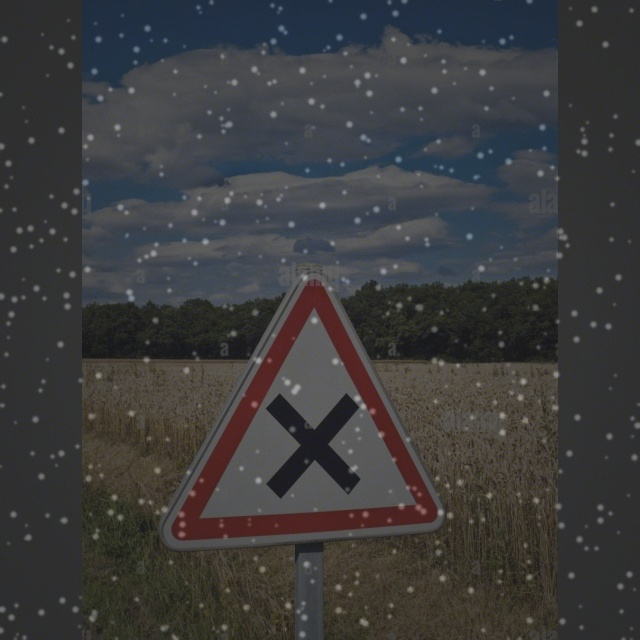Cross_Road: (174, 274, 445, 549)
